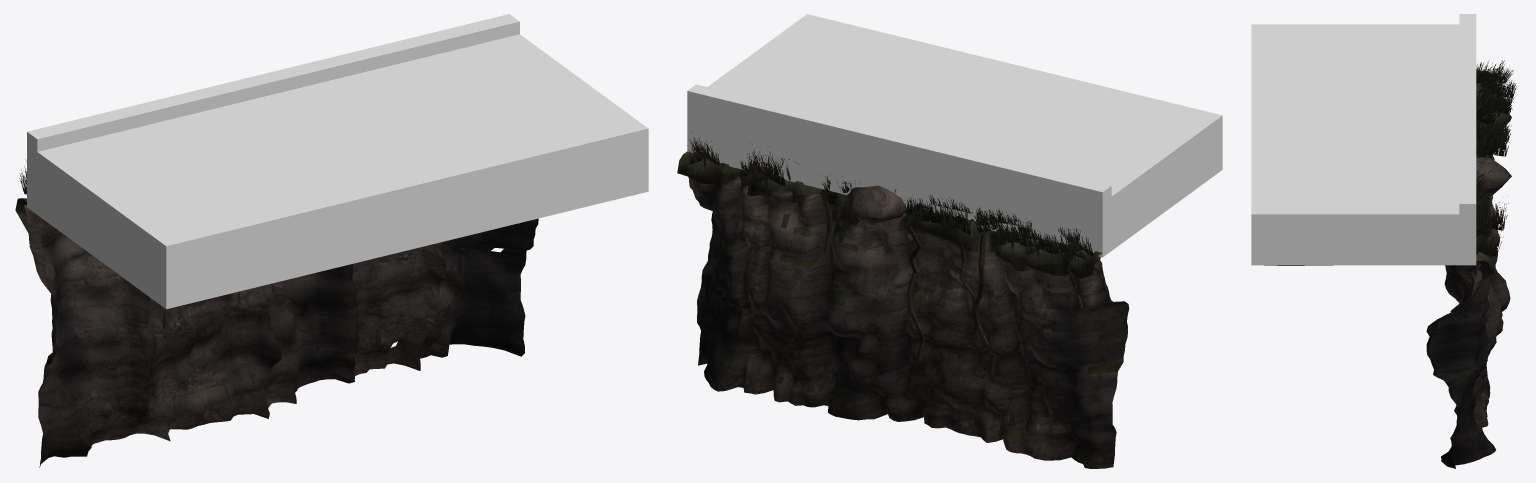
The model's file is cliff_edge_straight_8m.glb.
3 views of the same model, side by side, from view 1: azimuth 30°, elevation 25°; view 2: azimuth 150°, elevation 25°; view 3: azimuth 270°, elevation 25° (orthographic). The views are drawn at different scales.
Parts seen in each view (by area): view 1: col_walk_cliff_edge_straight_8m, cliff_edge_straight_8m, col_block_rim_cliff_edge_straight_8m_0; view 2: cliff_edge_straight_8m, col_walk_cliff_edge_straight_8m, col_block_rim_cliff_edge_straight_8m_0; view 3: col_walk_cliff_edge_straight_8m, cliff_edge_straight_8m, col_block_rim_cliff_edge_straight_8m_0.
Part boxes in pixels (<box>): col_walk_cliff_edge_straight_8m: <box>27,34,648,309</box>; cliff_edge_straight_8m: <box>15,159,538,467</box>; col_block_rim_cliff_edge_straight_8m_0: <box>27,14,519,214</box>; cliff_edge_straight_8m: <box>677,136,1129,468</box>; col_walk_cliff_edge_straight_8m: <box>687,14,1222,256</box>; col_block_rim_cliff_edge_straight_8m_0: <box>687,84,1111,257</box>; col_walk_cliff_edge_straight_8m: <box>1251,24,1476,265</box>; cliff_edge_straight_8m: <box>1264,60,1516,468</box>; col_block_rim_cliff_edge_straight_8m_0: <box>1459,14,1476,265</box>.
Size of the model in its own units: 8.16 by 5.2 by 4.81.
Materials: 5 (5 with a texture image).
